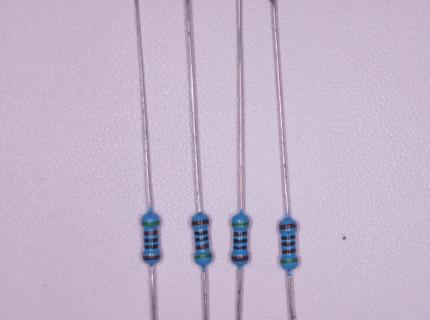Black band: (195, 237, 210, 242), (144, 238, 158, 243), (194, 231, 208, 236), (282, 242, 296, 247), (233, 246, 248, 250), (233, 239, 248, 243), (144, 245, 158, 249), (281, 235, 295, 239)
Brown band: (191, 219, 209, 225), (142, 255, 160, 261), (231, 256, 250, 261), (279, 224, 297, 229), (195, 244, 210, 250), (282, 249, 297, 254), (233, 232, 248, 236), (143, 231, 158, 235)
Green band: (141, 221, 160, 226), (280, 259, 299, 264), (194, 254, 212, 259), (231, 222, 250, 226)
